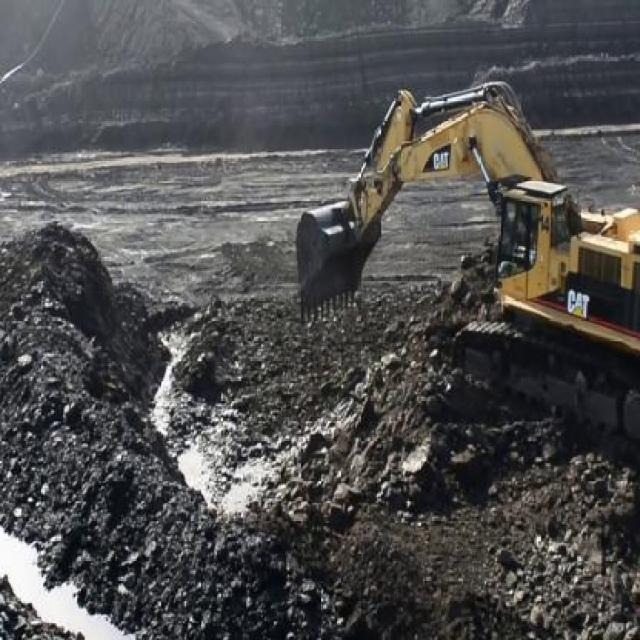Excavator: (290, 53, 639, 447)
